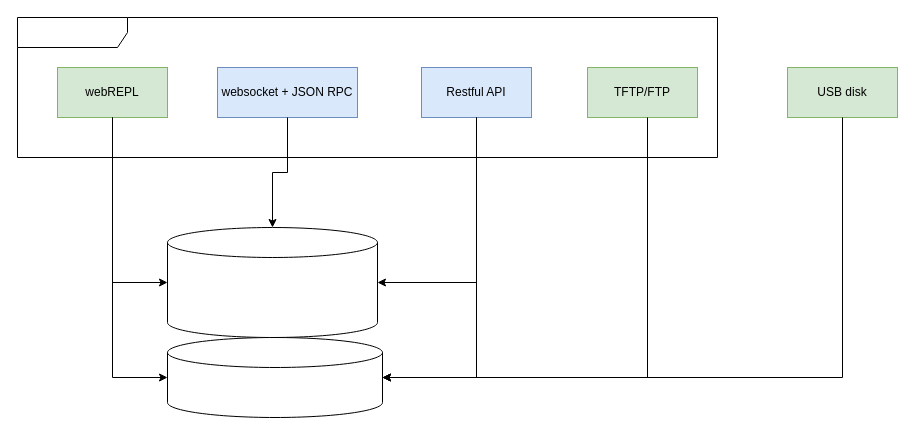
This 915x435 diagram has some shape labels left out. The centre of each missing label's shape, as x and y in pixels:
"Ethernet" belongs at [367,87].
"FDB" belongs at [272,282].
"File System" belongs at [274,377].
